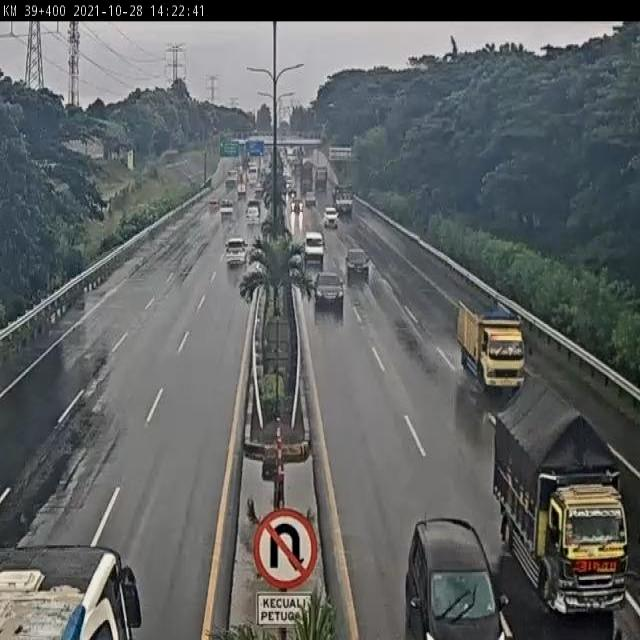Bus: (248, 164, 258, 186)
Car: (403, 518, 512, 639), (313, 270, 346, 315), (346, 248, 370, 280), (225, 236, 248, 266), (246, 200, 262, 224), (323, 206, 339, 227), (291, 196, 304, 213), (259, 178, 270, 197), (284, 176, 294, 194), (305, 191, 316, 207), (237, 181, 247, 197), (209, 198, 219, 212)
Truck: (493, 376, 628, 619), (456, 300, 526, 395), (333, 185, 354, 218), (315, 166, 327, 193), (219, 198, 234, 217), (225, 172, 237, 190)
Van: (304, 231, 325, 263)
